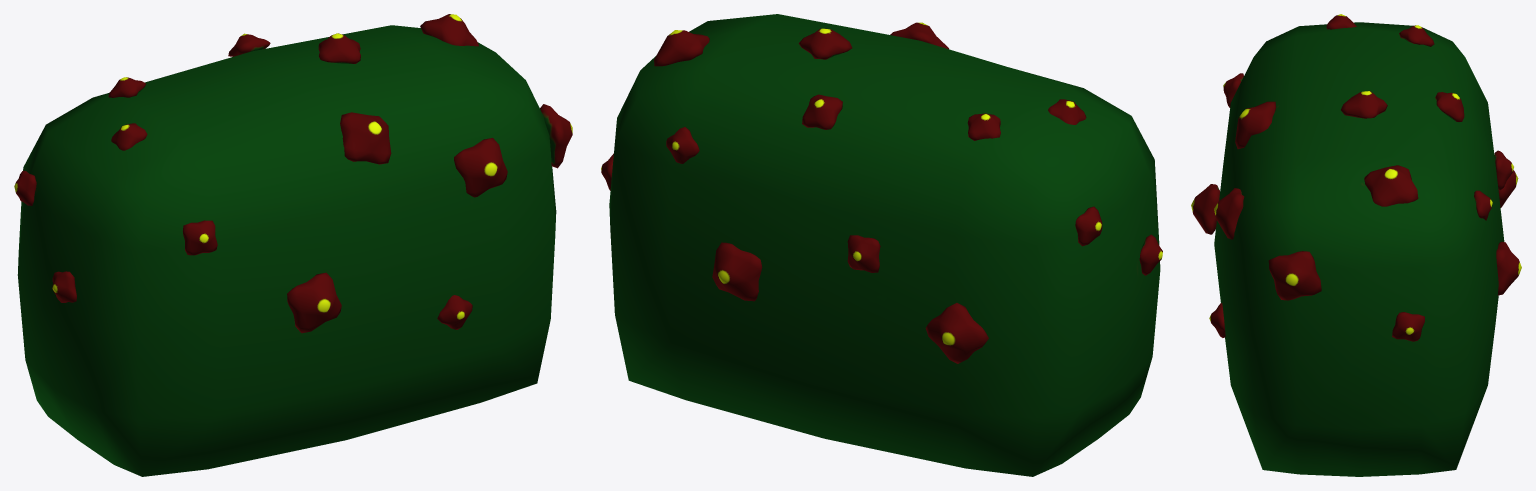
Rendered from FlowerBush_1_v1.fbx.
The picture shows the model from 3 angles, left to right: view 1: azimuth 30°, elevation 25°; view 2: azimuth 150°, elevation 25°; view 3: azimuth 270°, elevation 25°; orthographic projection. The views are drawn at different scales.
Parts seen in each view (by area): view 1: FlowerBush_1_v2; view 2: FlowerBush_1_v2; view 3: FlowerBush_1_v2.
Boxes of the visible parts, x1=… form: FlowerBush_1_v2: x1=14, y1=14, x2=572, y2=476; FlowerBush_1_v2: x1=601, y1=14, x2=1162, y2=476; FlowerBush_1_v2: x1=1191, y1=14, x2=1521, y2=476.
Size of the model in its own units: 3.1 by 2.07 by 1.93.
1 material, 1 textured.
